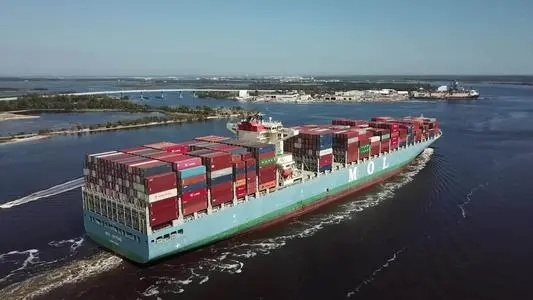Cargoship: (72, 105, 441, 260)
